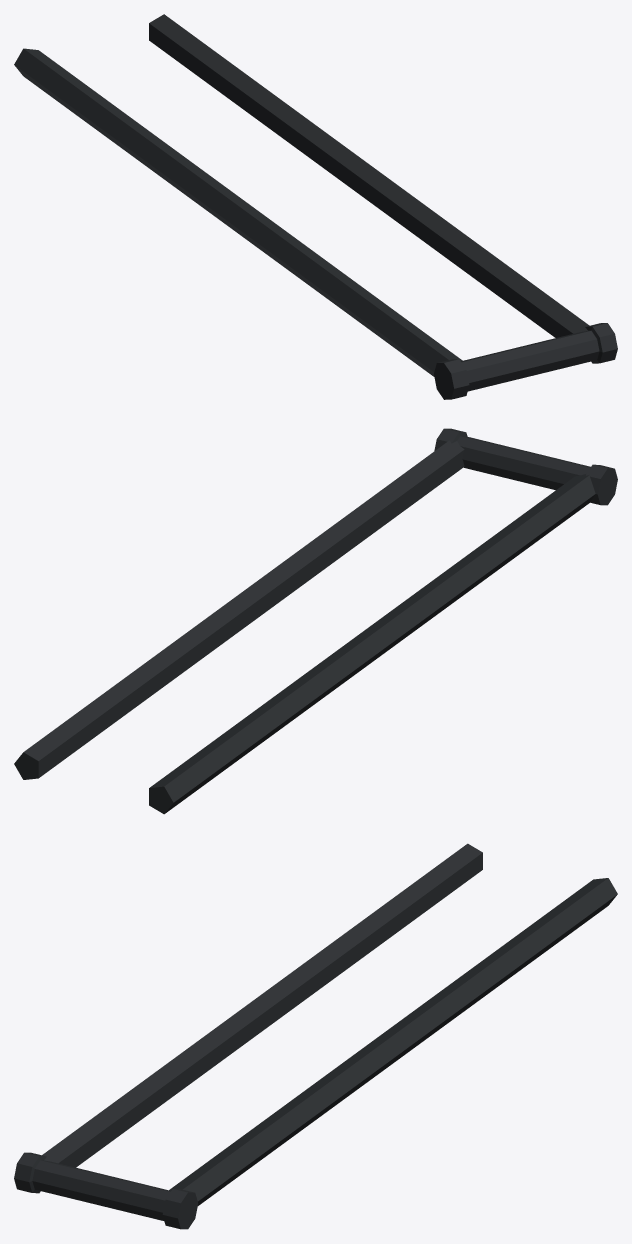
The model's file is forge_saw.gltf.
3 views of the same model, one above another, from view 1: azimuth 30°, elevation 25°; view 2: azimuth 150°, elevation 25°; view 3: azimuth 330°, elevation 25° (orthographic).
Parts seen in each view (by area): view 1: forge_saw; view 2: forge_saw; view 3: forge_saw.
Part boxes in pixels (x1,y1,x2,y2): forge_saw: (14,14,617,399); forge_saw: (14,428,617,814); forge_saw: (14,843,617,1229).
Size of the model in its own units: 0.5072 by 0.1091 by 2.37.
Materials: 1 (1 with a texture image).
